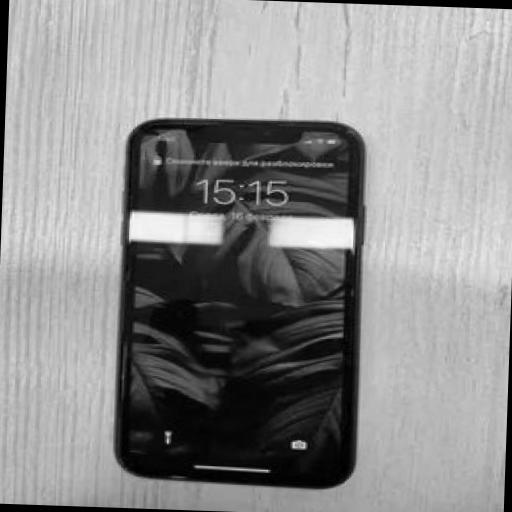phone: (114, 118, 364, 487)
